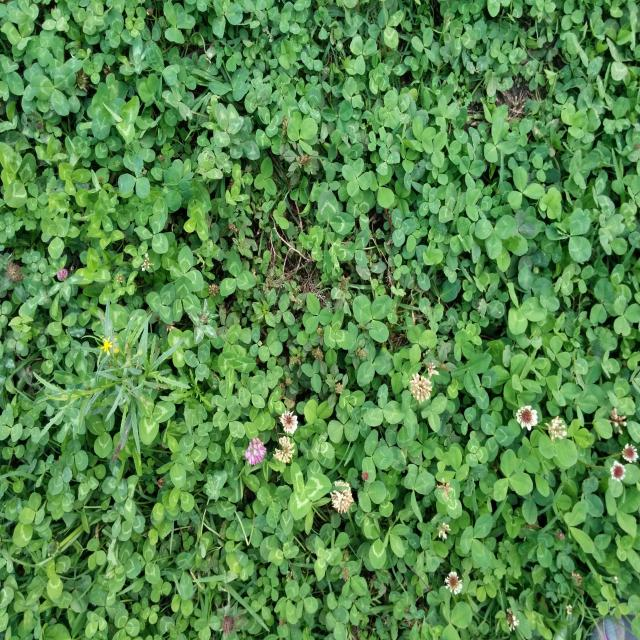Four Leaf Clover: (341, 159, 369, 197)
